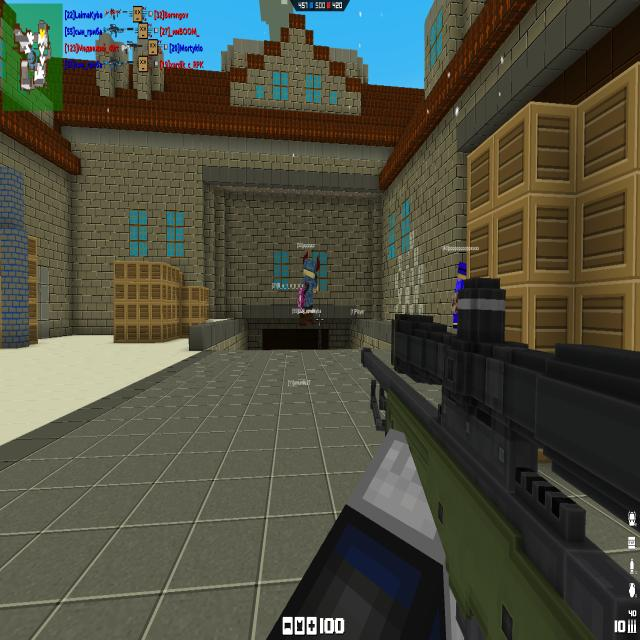player: (296, 252, 319, 310), (452, 262, 467, 326)
